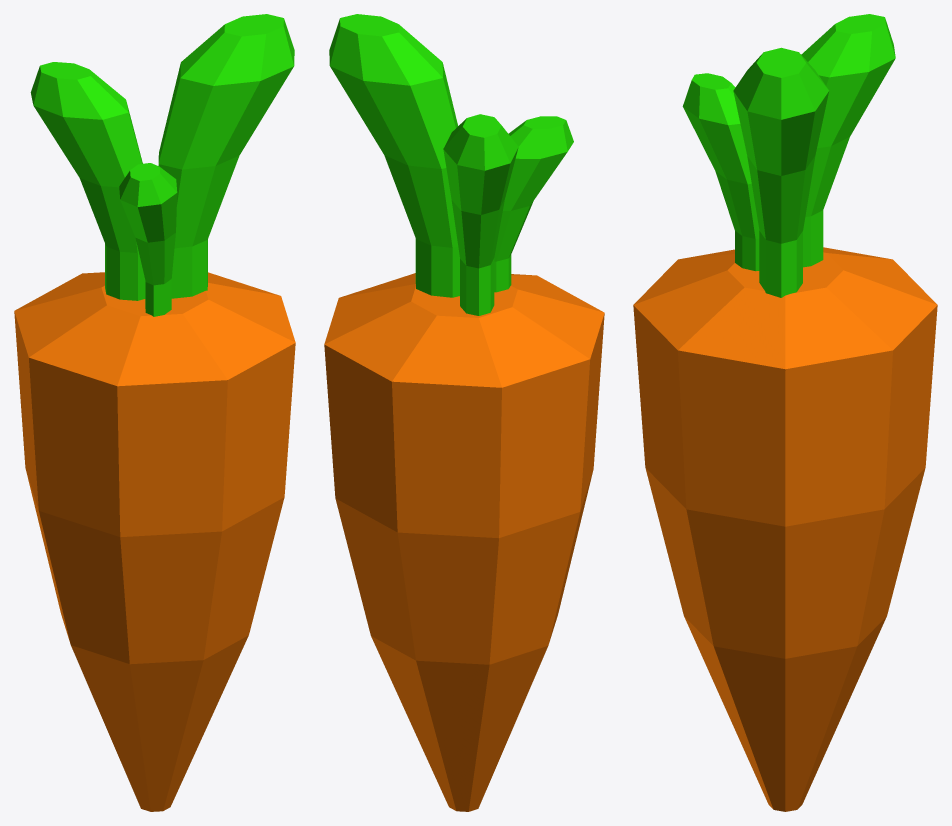
The model's file is carrot.fbx.
3 views of the same model, side by side, from view 1: azimuth 30°, elevation 25°; view 2: azimuth 150°, elevation 25°; view 3: azimuth 270°, elevation 25° (orthographic). The views are drawn at different scales.
Visible parts, largest first — view 1: Cylinder, Cylinder.001, Cylinder.002, Cylinder.003; view 2: Cylinder, Cylinder.001, Cylinder.002, Cylinder.003; view 3: Cylinder, Cylinder.001, Cylinder.002, Cylinder.003.
Part boxes in pixels (left/top/right/bottom): Cylinder: left=14, top=272, right=295, bottom=811; Cylinder.001: left=158, top=14, right=294, bottom=298; Cylinder.002: left=30, top=62, right=145, bottom=300; Cylinder.003: left=119, top=163, right=177, bottom=316; Cylinder: left=324, top=273, right=604, bottom=811; Cylinder.001: left=329, top=14, right=459, bottom=297; Cylinder.002: left=443, top=114, right=518, bottom=315; Cylinder.003: left=494, top=116, right=573, bottom=292; Cylinder: left=633, top=247, right=937, bottom=811; Cylinder.001: left=733, top=47, right=828, bottom=297; Cylinder.002: left=801, top=14, right=895, bottom=267; Cylinder.003: left=682, top=73, right=759, bottom=271.
Bounding box in the file's own units: 209 × 574 × 200.
